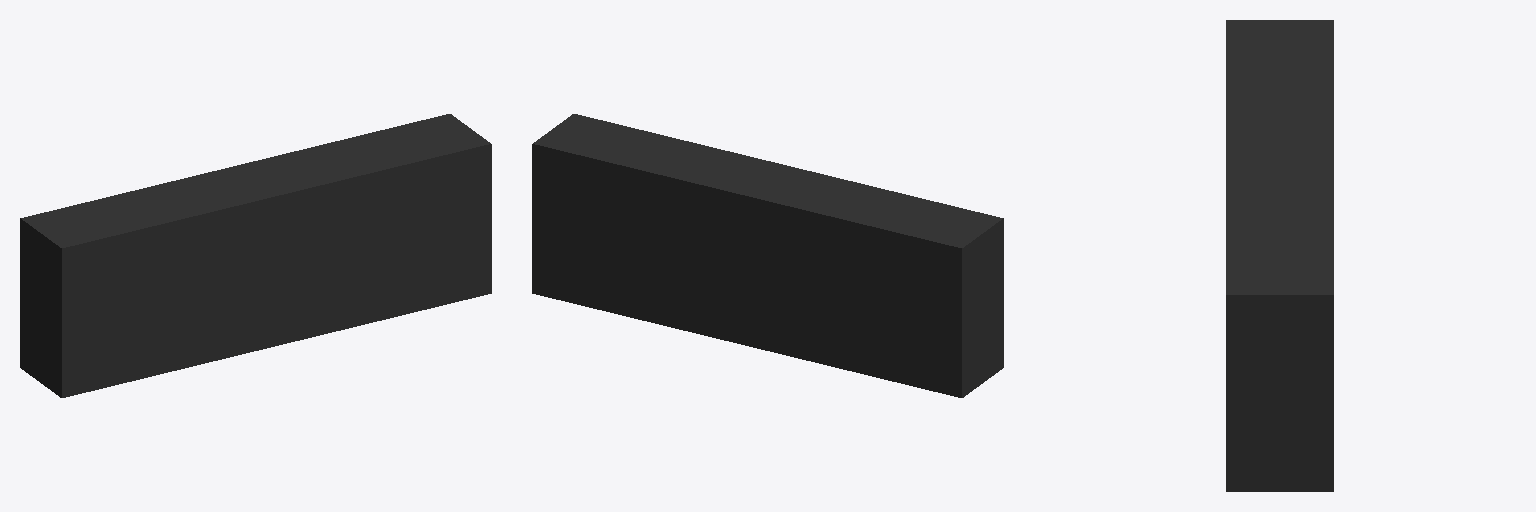
URDF robot description (wall):
<robot name="wall">
  <link name="baseLink">
   
    <inertial>
      <origin rpy="0 0 0" xyz="0 0 0" />
       <mass value="1000.0" />
       <inertia ixx="0" ixy="0" ixz="0" iyy="0" iyz="0" izz="0" />
    </inertial>
    <visual>
      <origin rpy="0 0 0" xyz="0 0 0" />
      <geometry>
			  <box size="6 1 2" />
      </geometry>
       <material name="grey">
        <color rgba="0.24 0.24 0.24 1" />
      </material>
    </visual>
    <collision>
      <origin rpy="0 0 0" xyz="0 0 0" />
      <geometry>
	 	      <box size="6 1 2" />
      </geometry>
    </collision>
  </link>
</robot>

--- What the picture shows (computed from the rendered views, not written in the file) ---
The picture shows the robot from 3 angles, left to right: view 1: azimuth 30°, elevation 25°; view 2: azimuth 150°, elevation 25°; view 3: azimuth 270°, elevation 25°; orthographic projection.
Model wall with 1 links and 0 joints (none), rooted at baseLink, posed every joint at zero.
Links seen in each view (by area): view 1: baseLink; view 2: baseLink; view 3: baseLink.
Link boxes in pixels (x1,y1,x2,y2): baseLink: (20,114,491,397); baseLink: (532,114,1003,397); baseLink: (1226,20,1333,491).
Size in the robot's own frame: 6 by 1 by 2 metres.
Geometry: primitives only (box / cylinder / sphere), no mesh files.